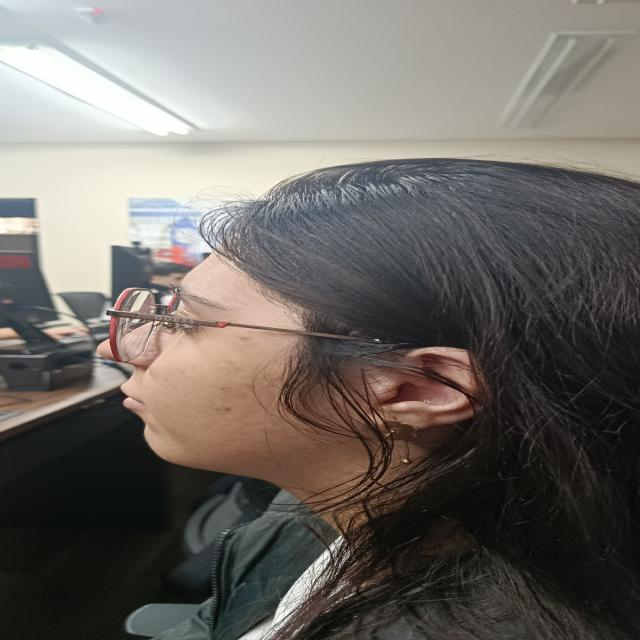sem_oculos: (106, 288, 385, 362)
